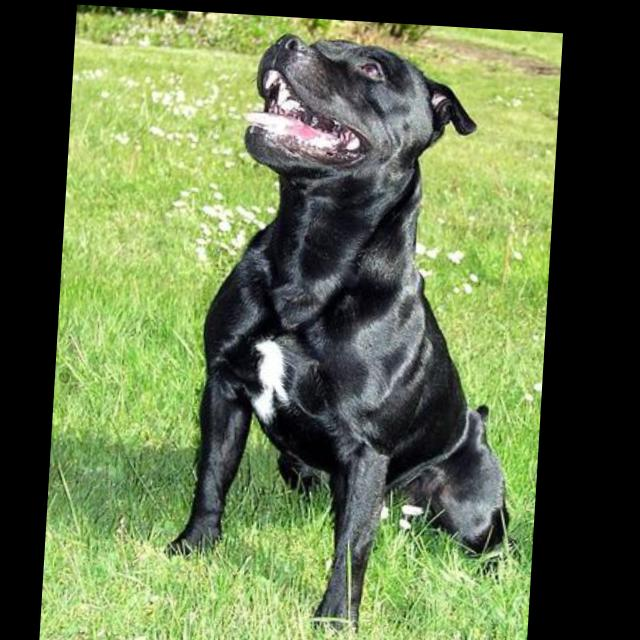staffford: (168, 24, 545, 640)
